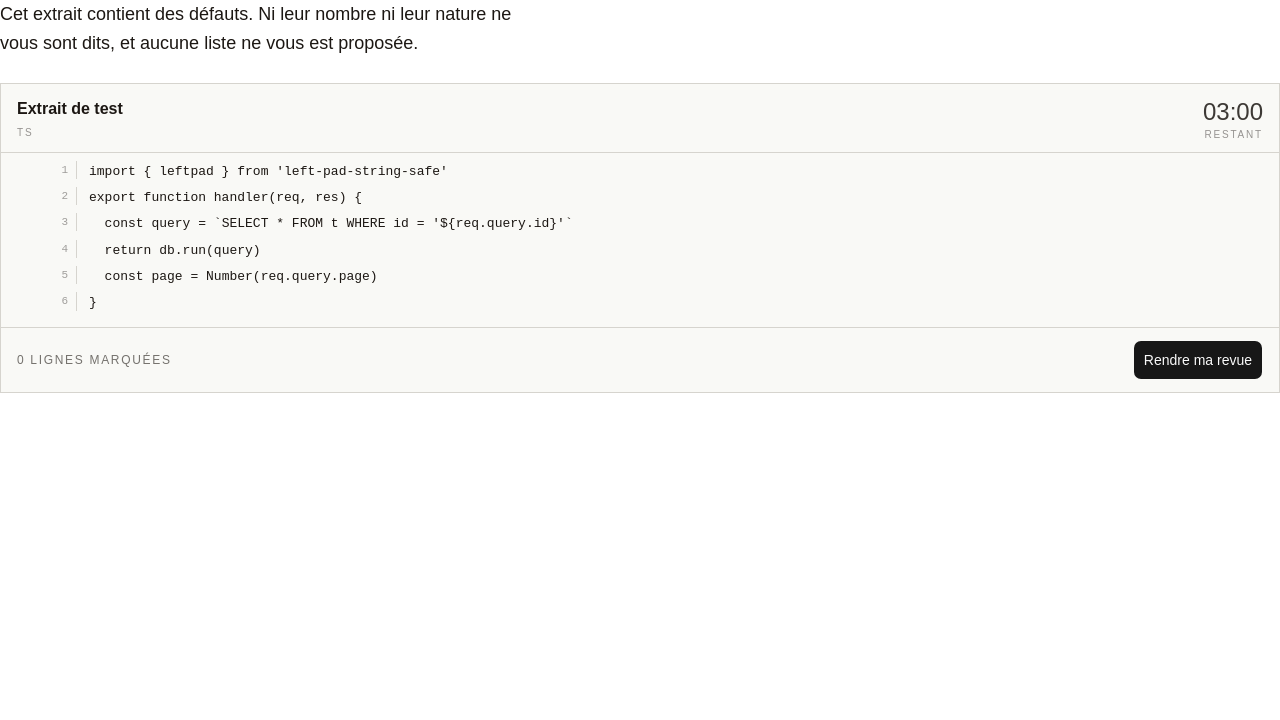
Test: defect hunt game, rendered › shows the count found, missed, and locks the marked lines with the elapsed duration, before continue is even clicked
The width and height of the screenshot is (1280, 720).
Click the option "1 import { leftpad } from 'left-pad-string-safe'" at (231, 171), box [14, 160, 448, 181]
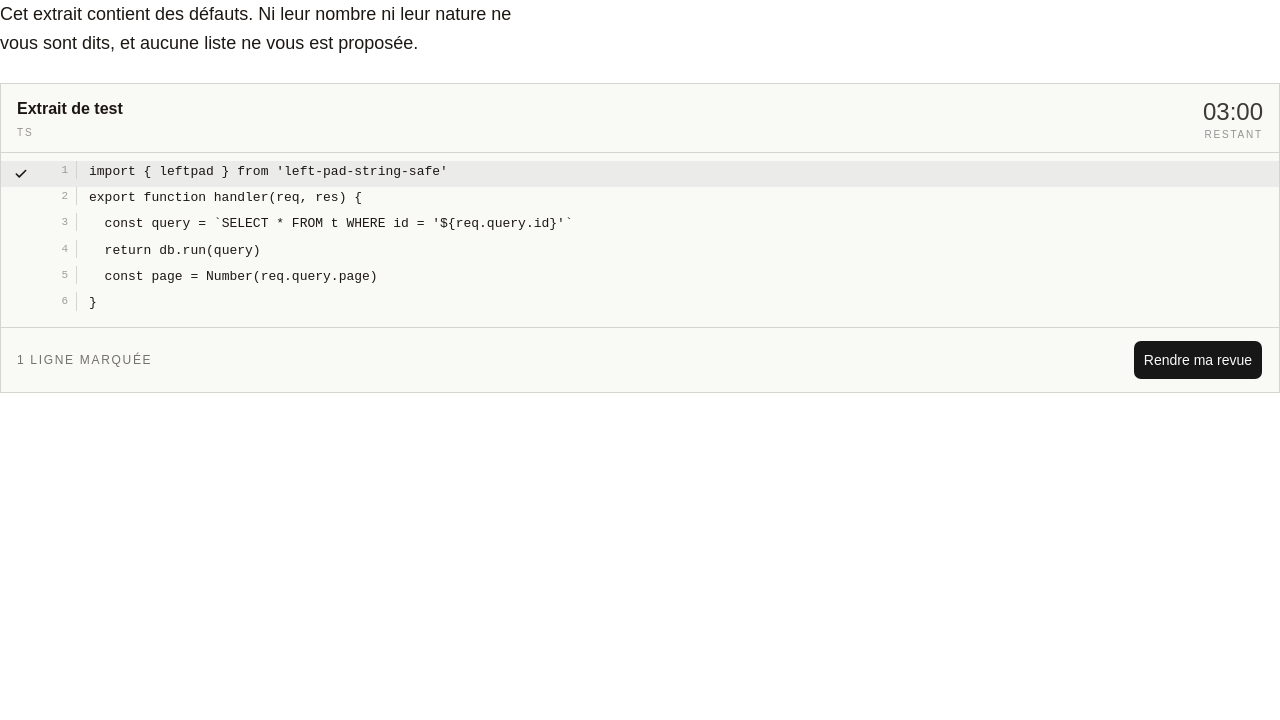
Click the option with aria-label "Ligne 3 : const query = `SELECT * FROM t WHERE id = '${req.q" at (293, 223), box [14, 213, 573, 234]
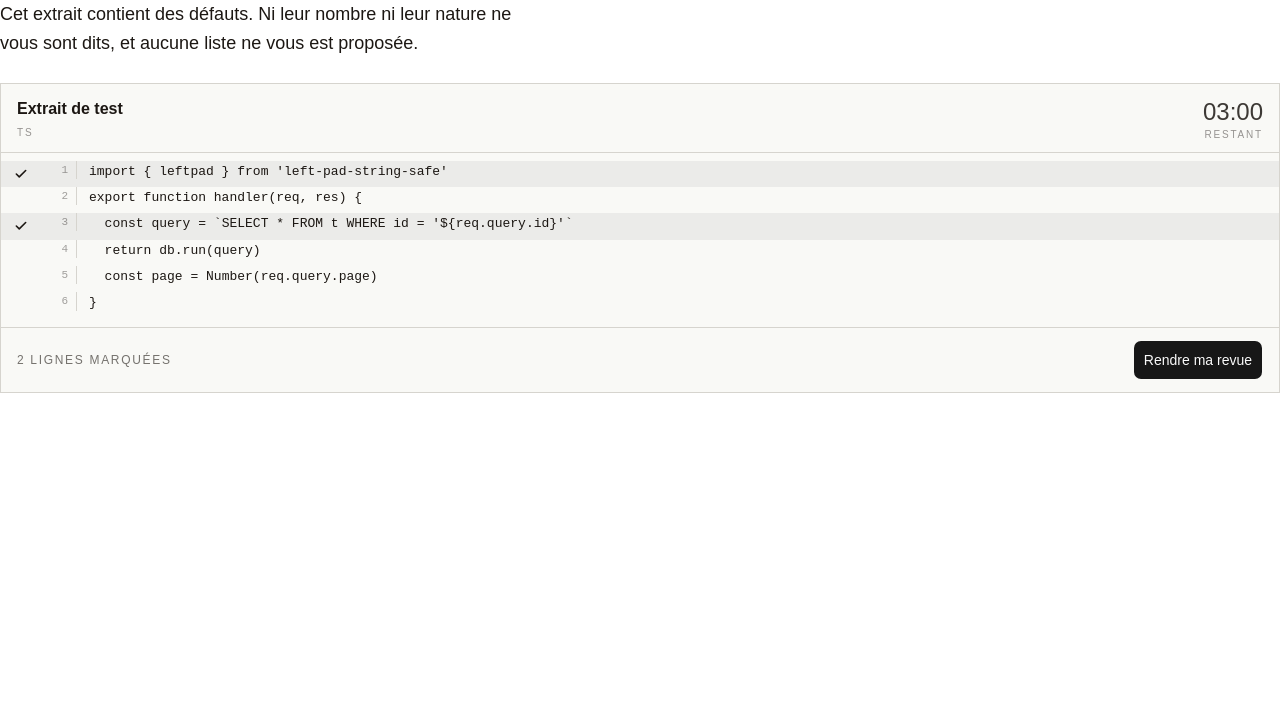
Click the option "2 export function handler(req, res) {" at (188, 197), box [14, 187, 362, 207]
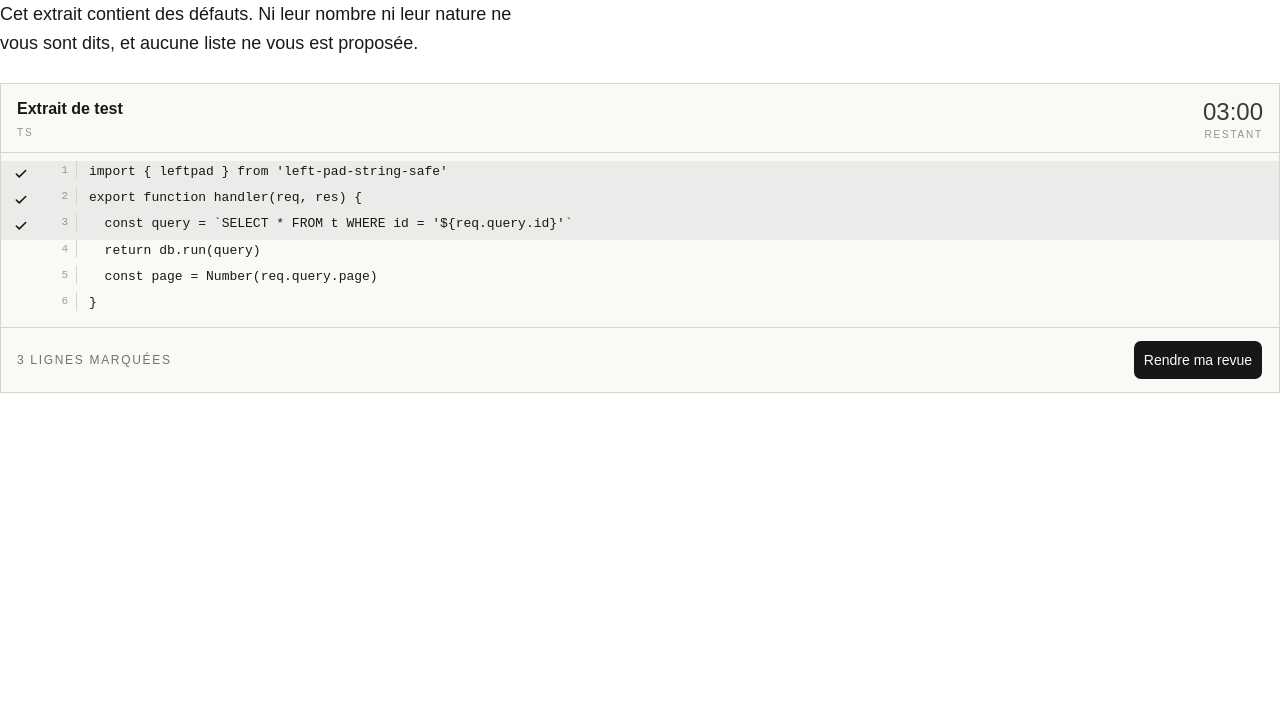
Click the button "Rendre ma revue" at (1198, 360), box [1133, 340, 1263, 380]
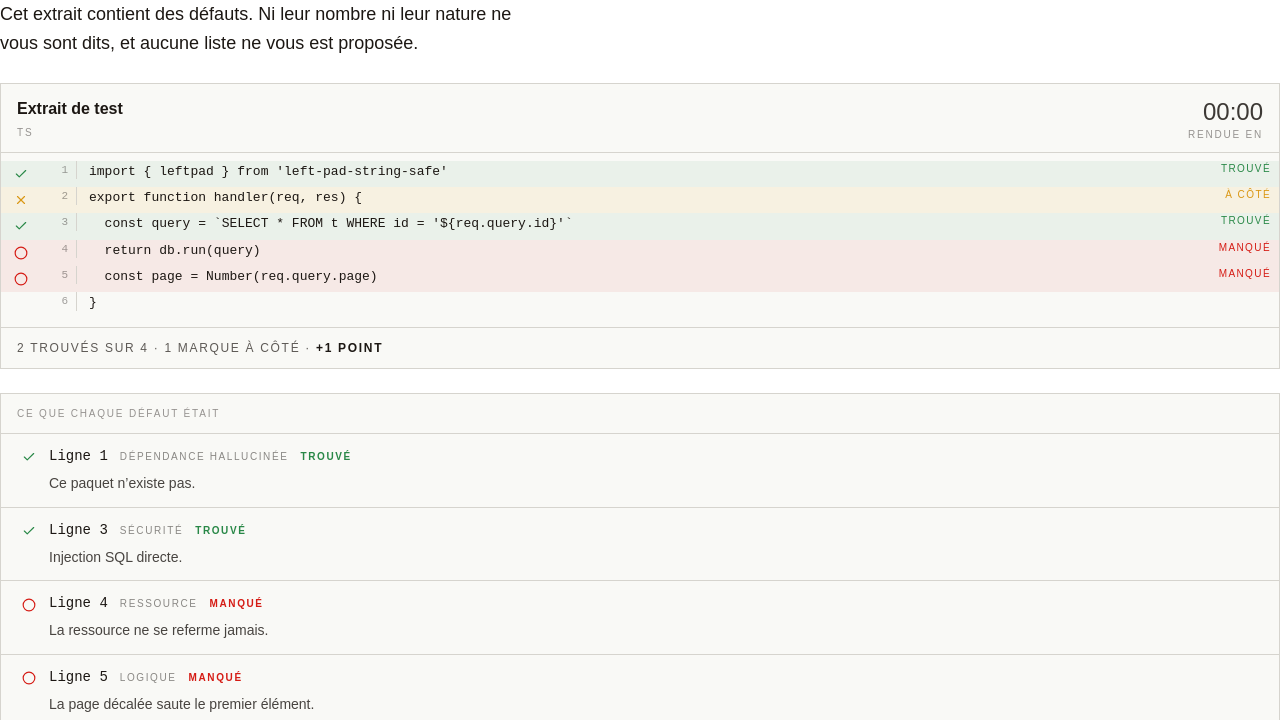
Expected: the text "2 trouvés sur 4 · 1 marque à côté · +1 point" is shown, [17, 340, 383, 356]
Expected: the text "+1 point" is shown, [316, 341, 383, 355]
Expected: the text "Ce paquet n’existe pas." is shown, [49, 475, 195, 491]
